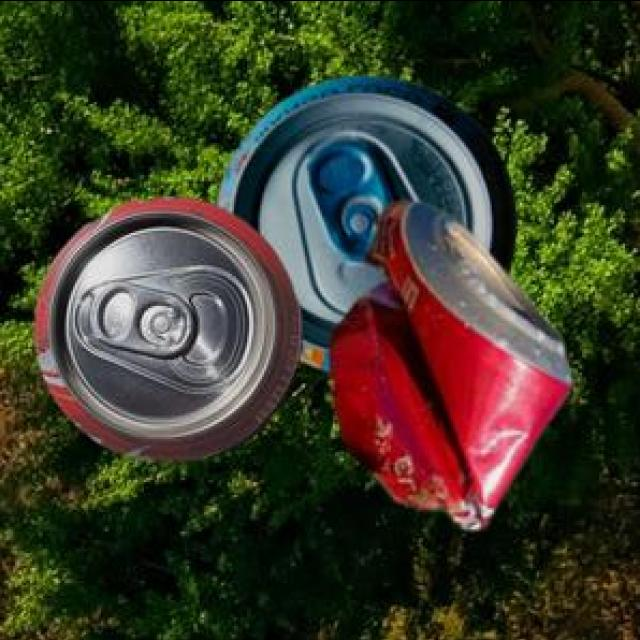logam: (214, 74, 512, 368), (328, 199, 568, 523), (31, 192, 300, 456)
